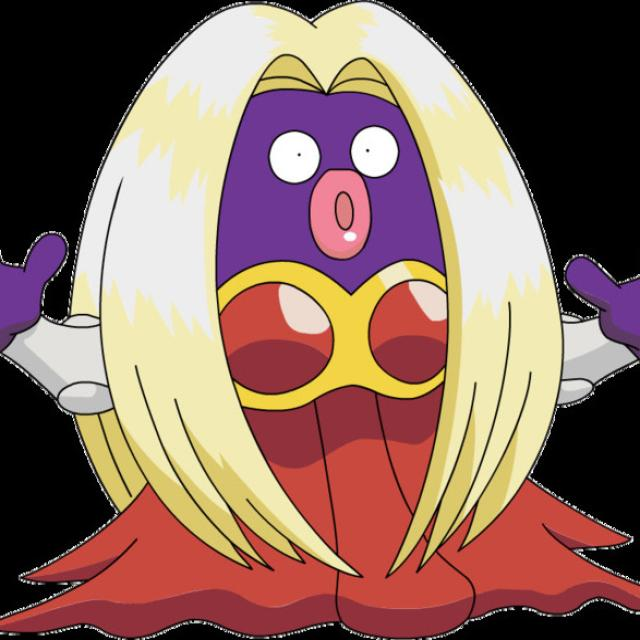Jynx: (72, 6, 566, 640)
